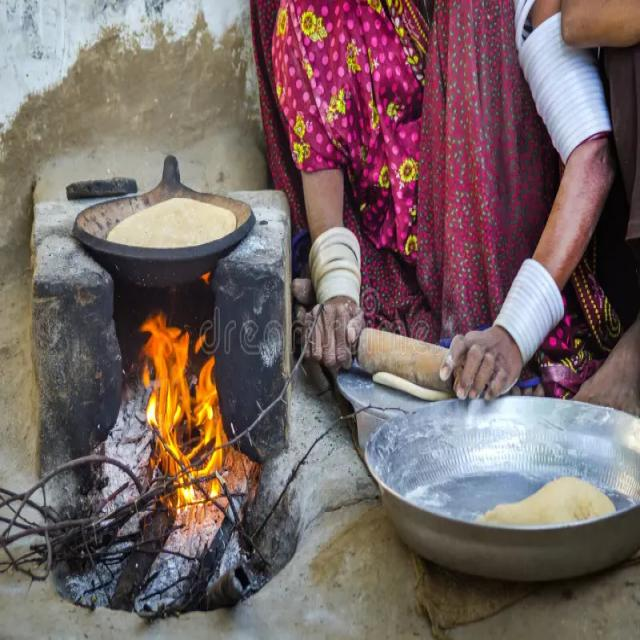fire: (138, 308, 190, 392), (166, 434, 195, 503), (192, 416, 222, 478), (146, 393, 190, 434), (191, 355, 215, 427)
